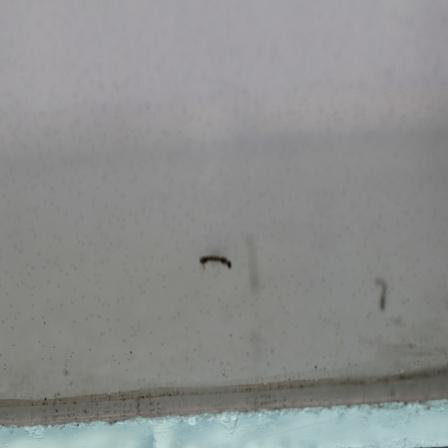Jentik-Nyamuk: (196, 250, 234, 276)
